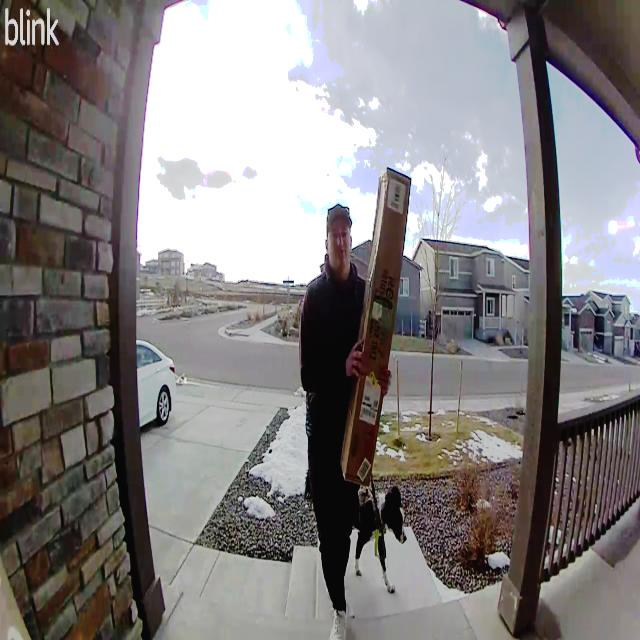Box: (341, 164, 413, 488)
